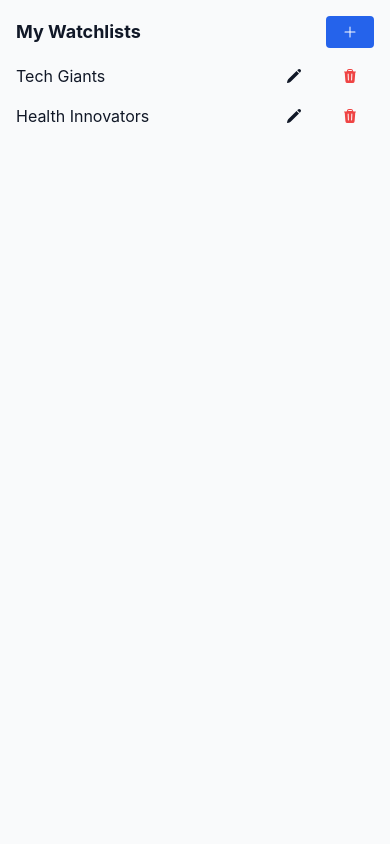
Scenario: WatchlistSelector › opens the form modal in edit mode when an edit button is clicked
The width and height of the screenshot is (390, 844).
What coordinates should you click on to do the following:
click the button named "edit"
I would click on:
 (294, 76)
Its box is [270,60,318,92].
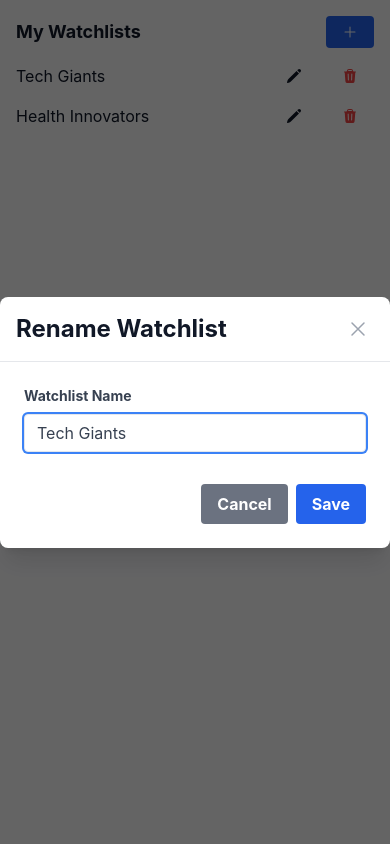
Now the heading "Rename Watchlist" is shown, box [16,312,227,344]
Now the field showing "Tech Giants" is shown, box [24,414,366,452]
